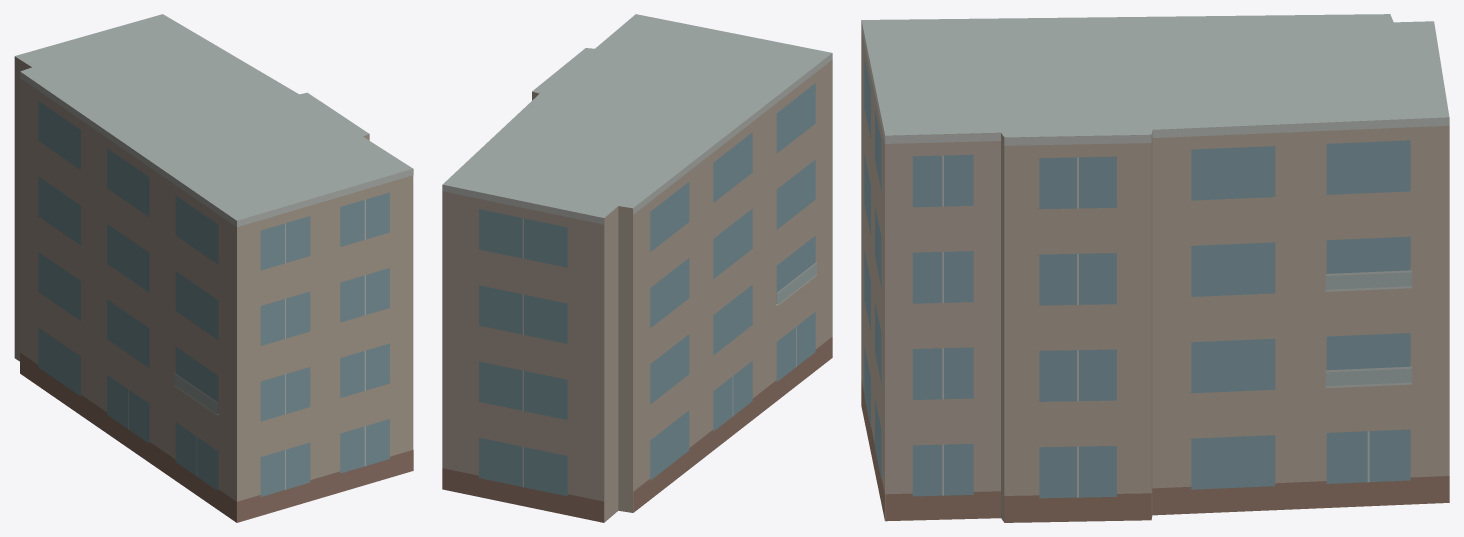
Rendered from survey-upis-32631277.glb.
3 renders of one model, left to right at view 1: azimuth 30°, elevation 25°; view 2: azimuth 150°, elevation 25°; view 3: azimuth 270°, elevation 25°, orthographic. The views are drawn at different scales.
Parts seen in each view (by area): view 1: survey-upis-32631277.tmp; view 2: survey-upis-32631277.tmp; view 3: survey-upis-32631277.tmp.
Part boxes in pixels (left/top/right/bottom): survey-upis-32631277.tmp: left=14, top=14, right=413, bottom=522; survey-upis-32631277.tmp: left=442, top=14, right=832, bottom=522; survey-upis-32631277.tmp: left=861, top=14, right=1449, bottom=522.
Size of the model in its own units: 7.77 by 11.3 by 15.64.
